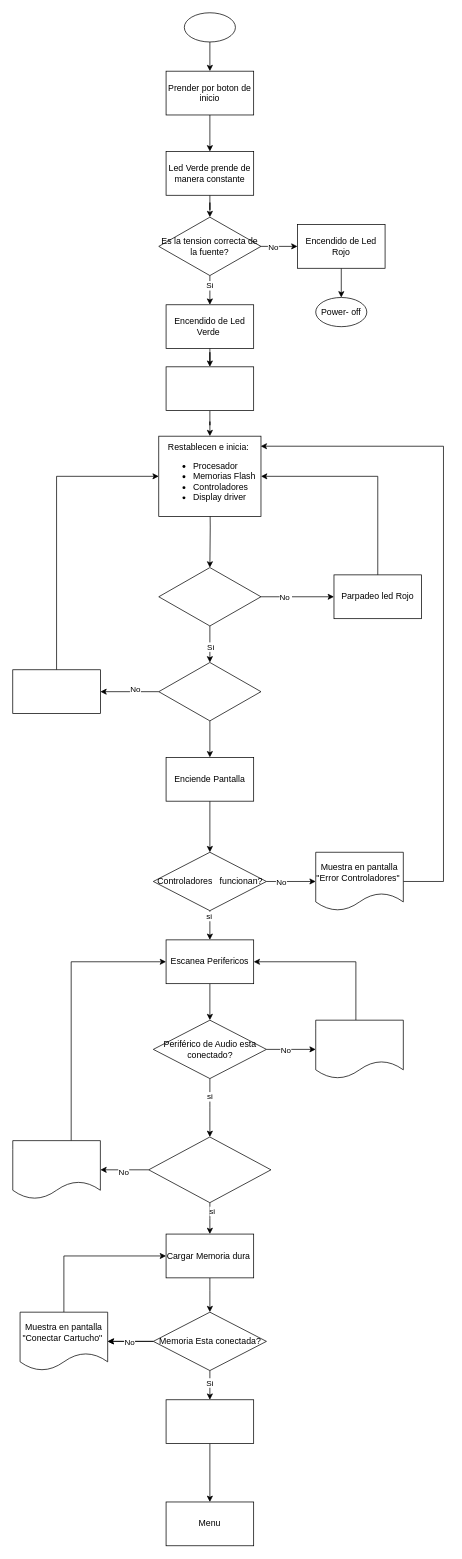
Some shapes in this 462 by 1559 pixel diagram are drawn without their labels. Each missing label, with the centre of its shape:
Algún periférico de Control esta conectado?: (209,1169)
Carga conjunta de Memoria: (209,1421)
Funciona Display?: (209,691)
Funciona la memoria flash?: (209,596)
Incializa procesador, , meroria Flash y controladores: (209,388)
Inicio: (209,27)
Muestra en pantalla "Conectar A/V": (359,1049)
Muestra en pantalla "Conectar Periferico Control": (56,1169)
Verde led parpadea: (56,691)
